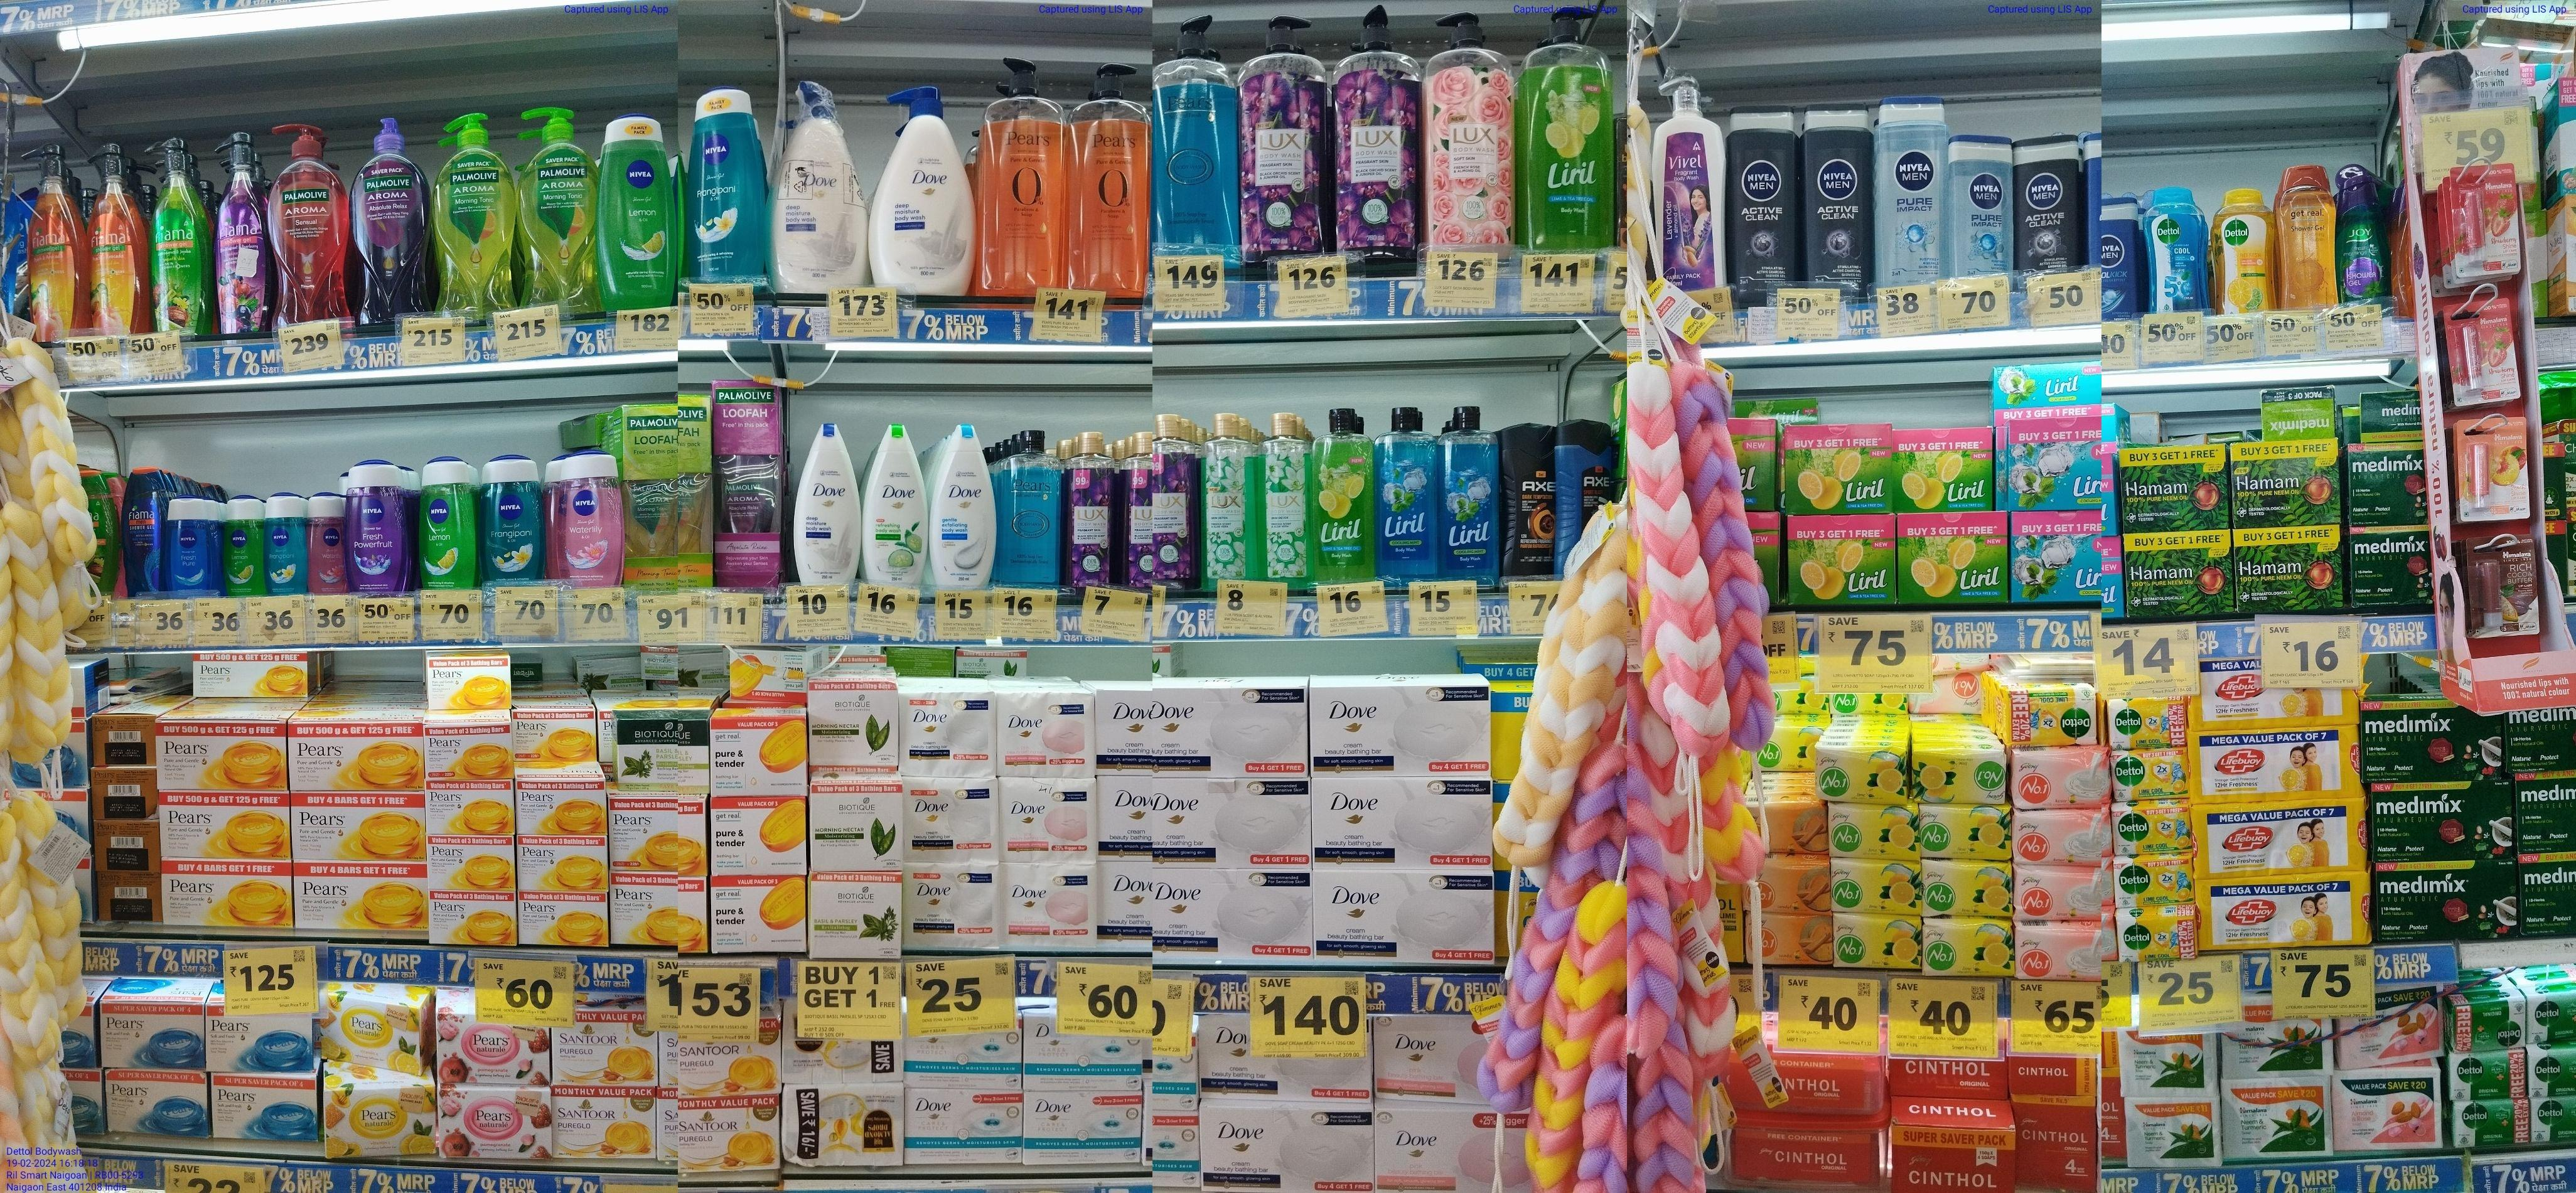Dettol_Bodywash_Cool: (2146, 187, 2210, 312)
Dettol_Bodywash_Refresh: (2213, 189, 2277, 312)
Dove_Deep_Moisture_Body_Wash_250ML: (792, 422, 858, 583)
Dove_Gentle_Exfoliating_Body_Wash_250ML: (930, 424, 992, 593)
Dove_Refreshing_Body_Wash_250ML: (861, 424, 925, 583)
Get_Real_Shower_Gel_Moisturising_Glycerin_300ML: (2280, 164, 2336, 307)
Joy_Shower_Gel_Mint_and_Eucalyptus_250ML: (2339, 179, 2389, 304)
Liril_Cooling_Mint_Body_Wash_250ML: (1373, 408, 1436, 582), (1437, 408, 1498, 582)
Liril_Lime_and_Tea_Tree_Oil_Body_Wash_250ML: (1309, 403, 1370, 580)
Lux_Black_Orchid_Scent_and_Juniper_Oil_Body_Wash_245ML: (1153, 417, 1201, 583), (1068, 435, 1115, 585)
Lux_Body_Wash_Skin_Detox_Freesia_Scent_and_Alove_Vera_245ML: (1203, 412, 1253, 577), (1258, 416, 1304, 582)
Nivea_Shower_Gel_Frangipani_and_Oil_250ML: (688, 87, 764, 276), (478, 460, 545, 583)
Nivea_Shower_Gel_Fresh_Powerfruit_250ML: (345, 460, 409, 593)
Nivea_Shower_Gel_Lemon_and_Oil_250ML: (600, 112, 675, 306), (419, 457, 473, 590)
Nivea_Shower_Gel_Waterlily_and_Oil_250ML: (560, 452, 623, 585)
Pears_Pure_Glycerin_and_Mint_Extracts_Body_Wash_250ML: (999, 429, 1061, 585)
